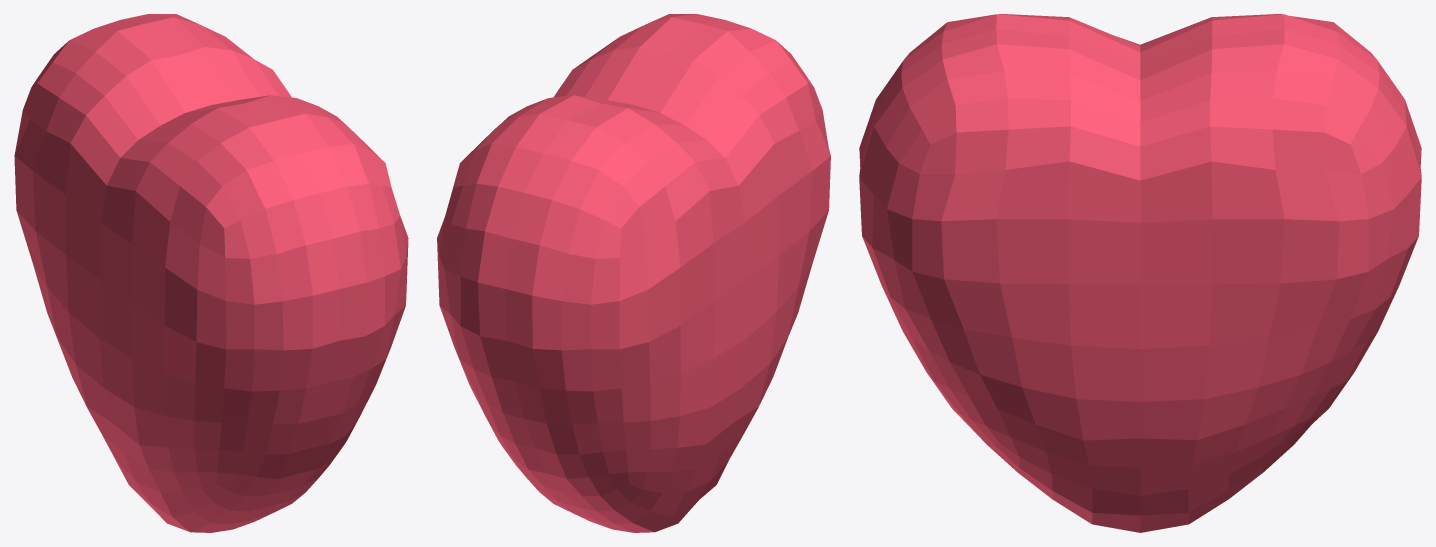
Rendered from heart.glb.
3 views of the same model, side by side, from view 1: azimuth 30°, elevation 25°; view 2: azimuth 150°, elevation 25°; view 3: azimuth 270°, elevation 25° (orthographic). The views are drawn at different scales.
Parts seen in each view (by area): view 1: Cube; view 2: Cube; view 3: Cube.
Boxes of the visible parts, box(x1,y1,x2,y2) form: Cube: box(14, 14, 408, 532); Cube: box(437, 14, 830, 532); Cube: box(859, 14, 1421, 532).
Size of the model in its own units: 0.9834 by 1.91 by 1.95.
